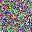airplane: (9, 0, 19, 16)
stadium: (13, 2, 22, 22), (5, 11, 17, 21)
